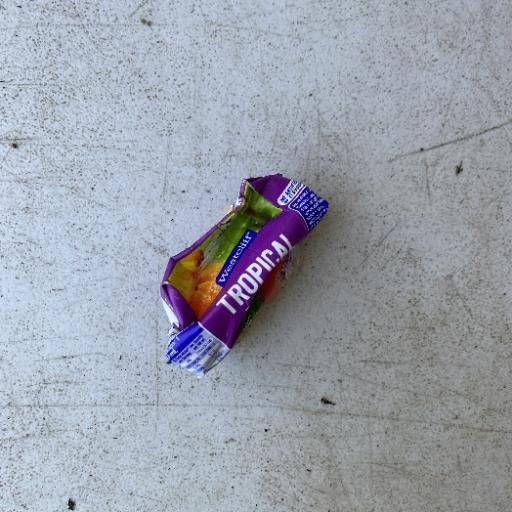Cardboard: (158, 172, 330, 378)
